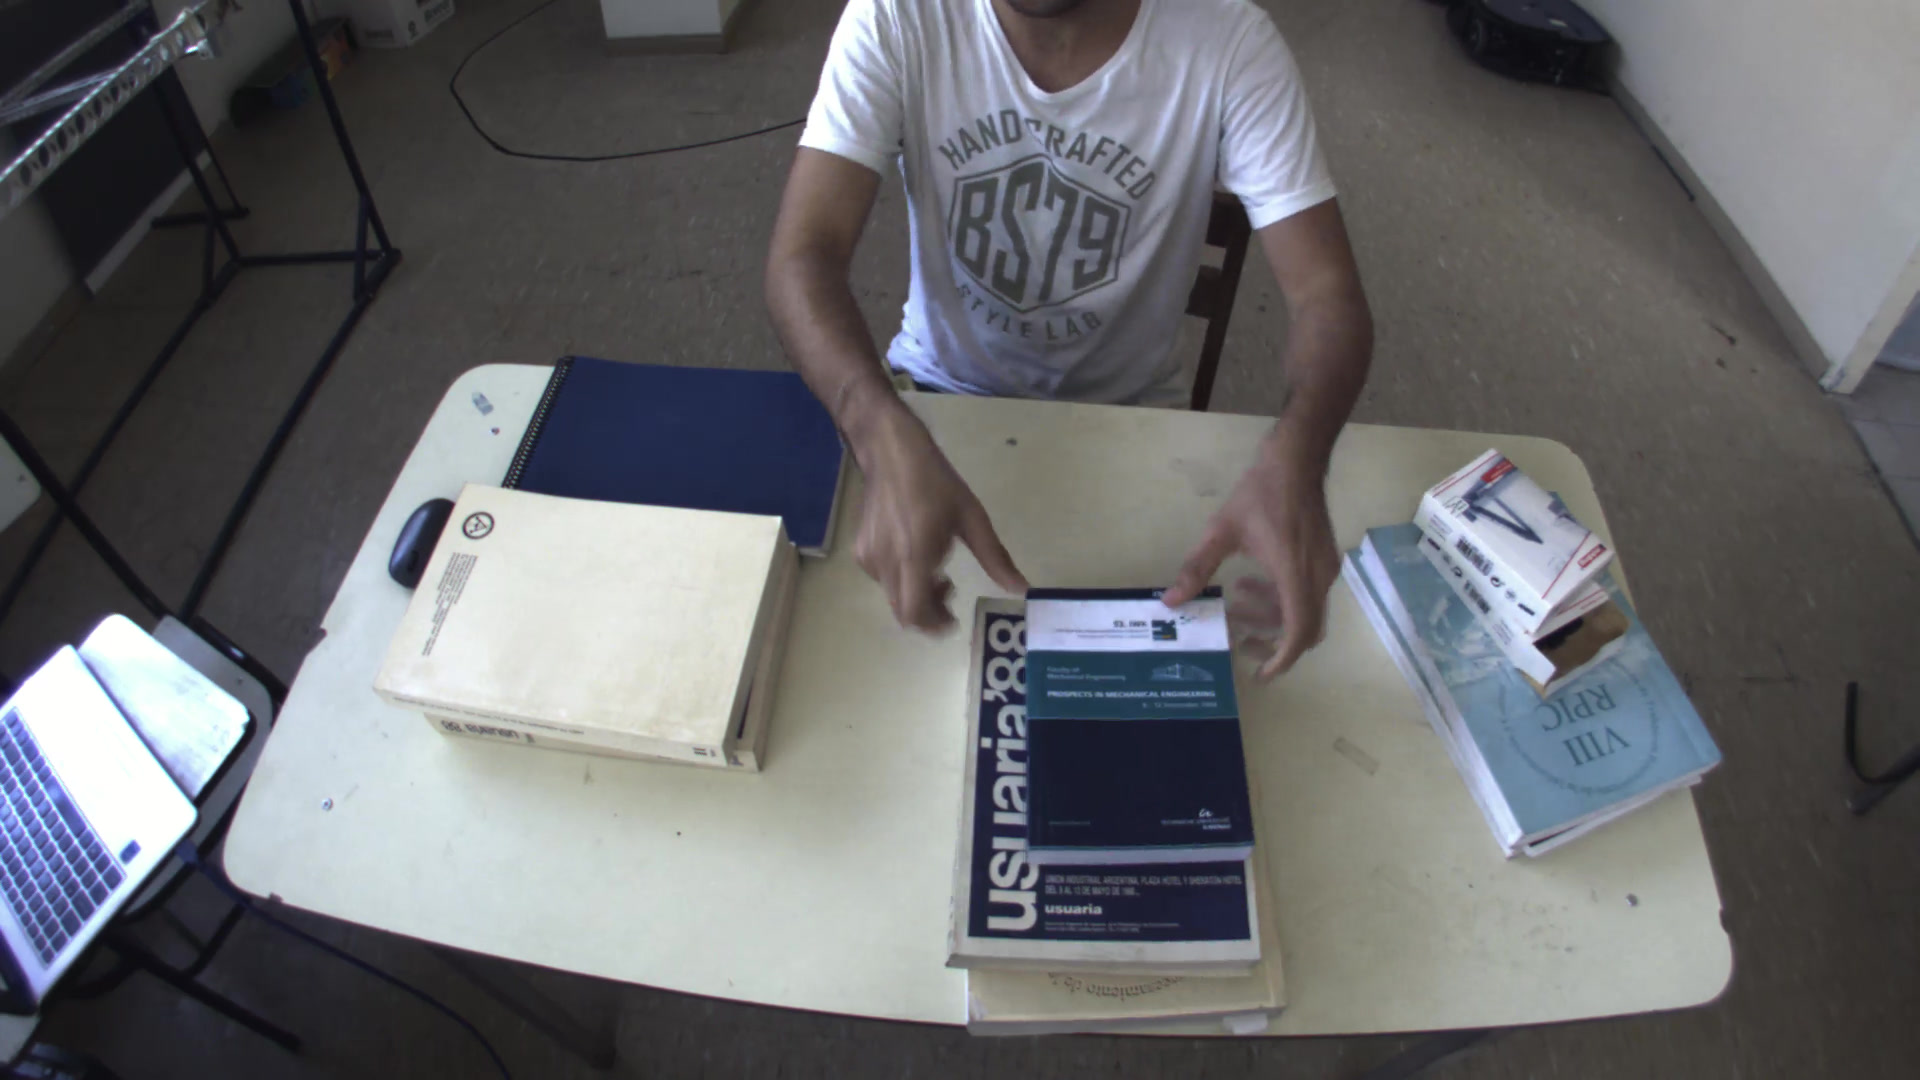hand: (1158, 442, 1361, 686), (841, 438, 1027, 636)
